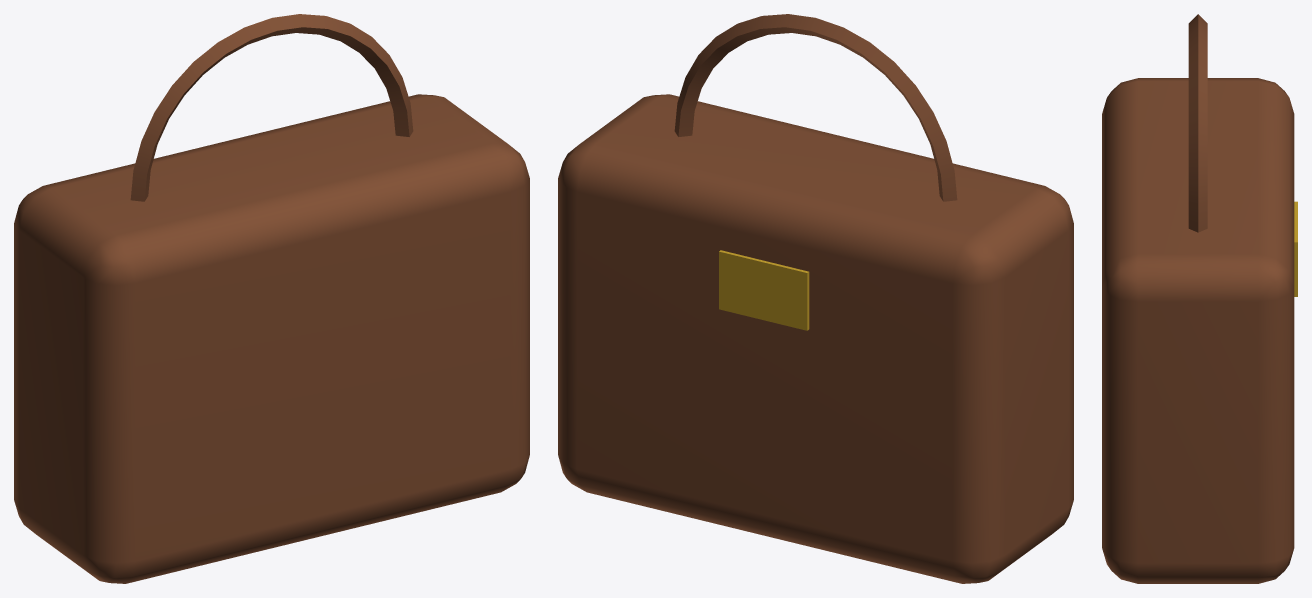
The model's file is prop_bag_floor.glb.
3 renders of one model, left to right at view 1: azimuth 30°, elevation 25°; view 2: azimuth 150°, elevation 25°; view 3: azimuth 270°, elevation 25°, orthographic. The views are drawn at different scales.
Visible parts, largest first — view 1: Bag; view 2: Bag; view 3: Bag.
Boxes of the visible parts, left/top/right/bottom form: Bag: left=14, top=14, right=529, bottom=583; Bag: left=558, top=14, right=1073, bottom=583; Bag: left=1102, top=14, right=1297, bottom=583.
Size of what is drawn, in the model's own units: 0.4 by 0.428 by 0.163.
